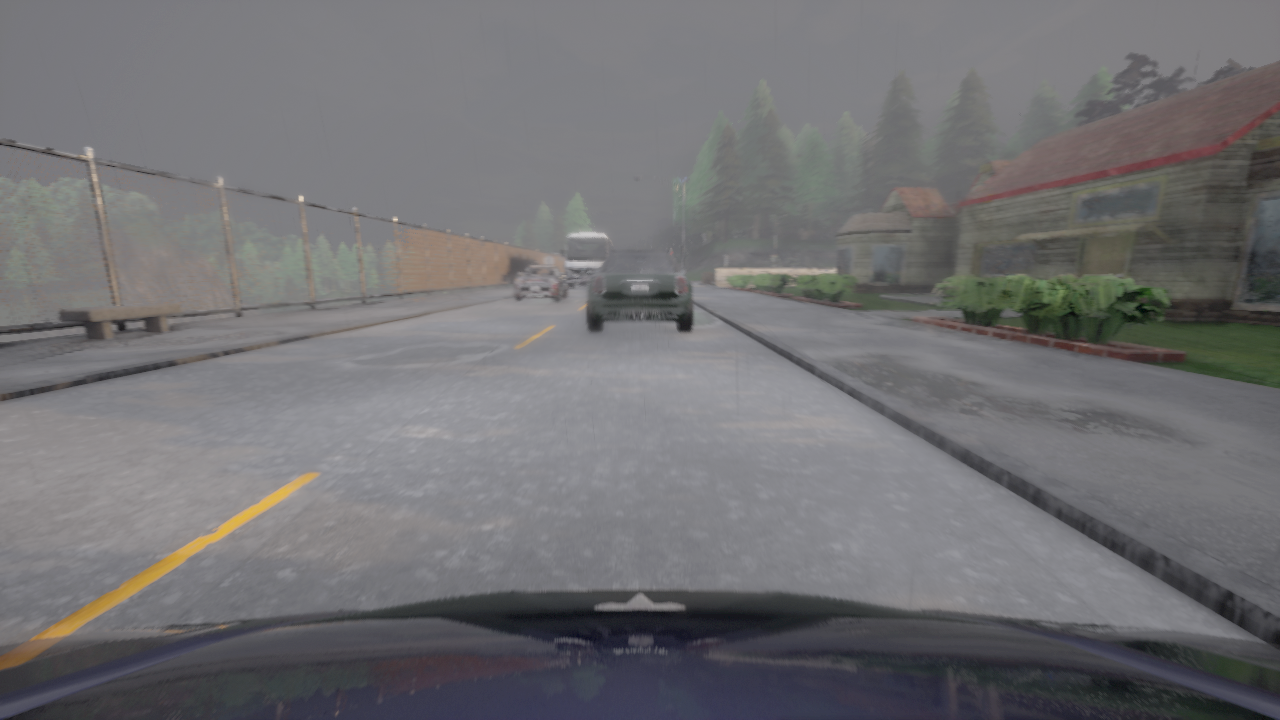cyclist: (0, 588, 1279, 719), (587, 247, 692, 331), (560, 232, 614, 287), (514, 266, 567, 301)
